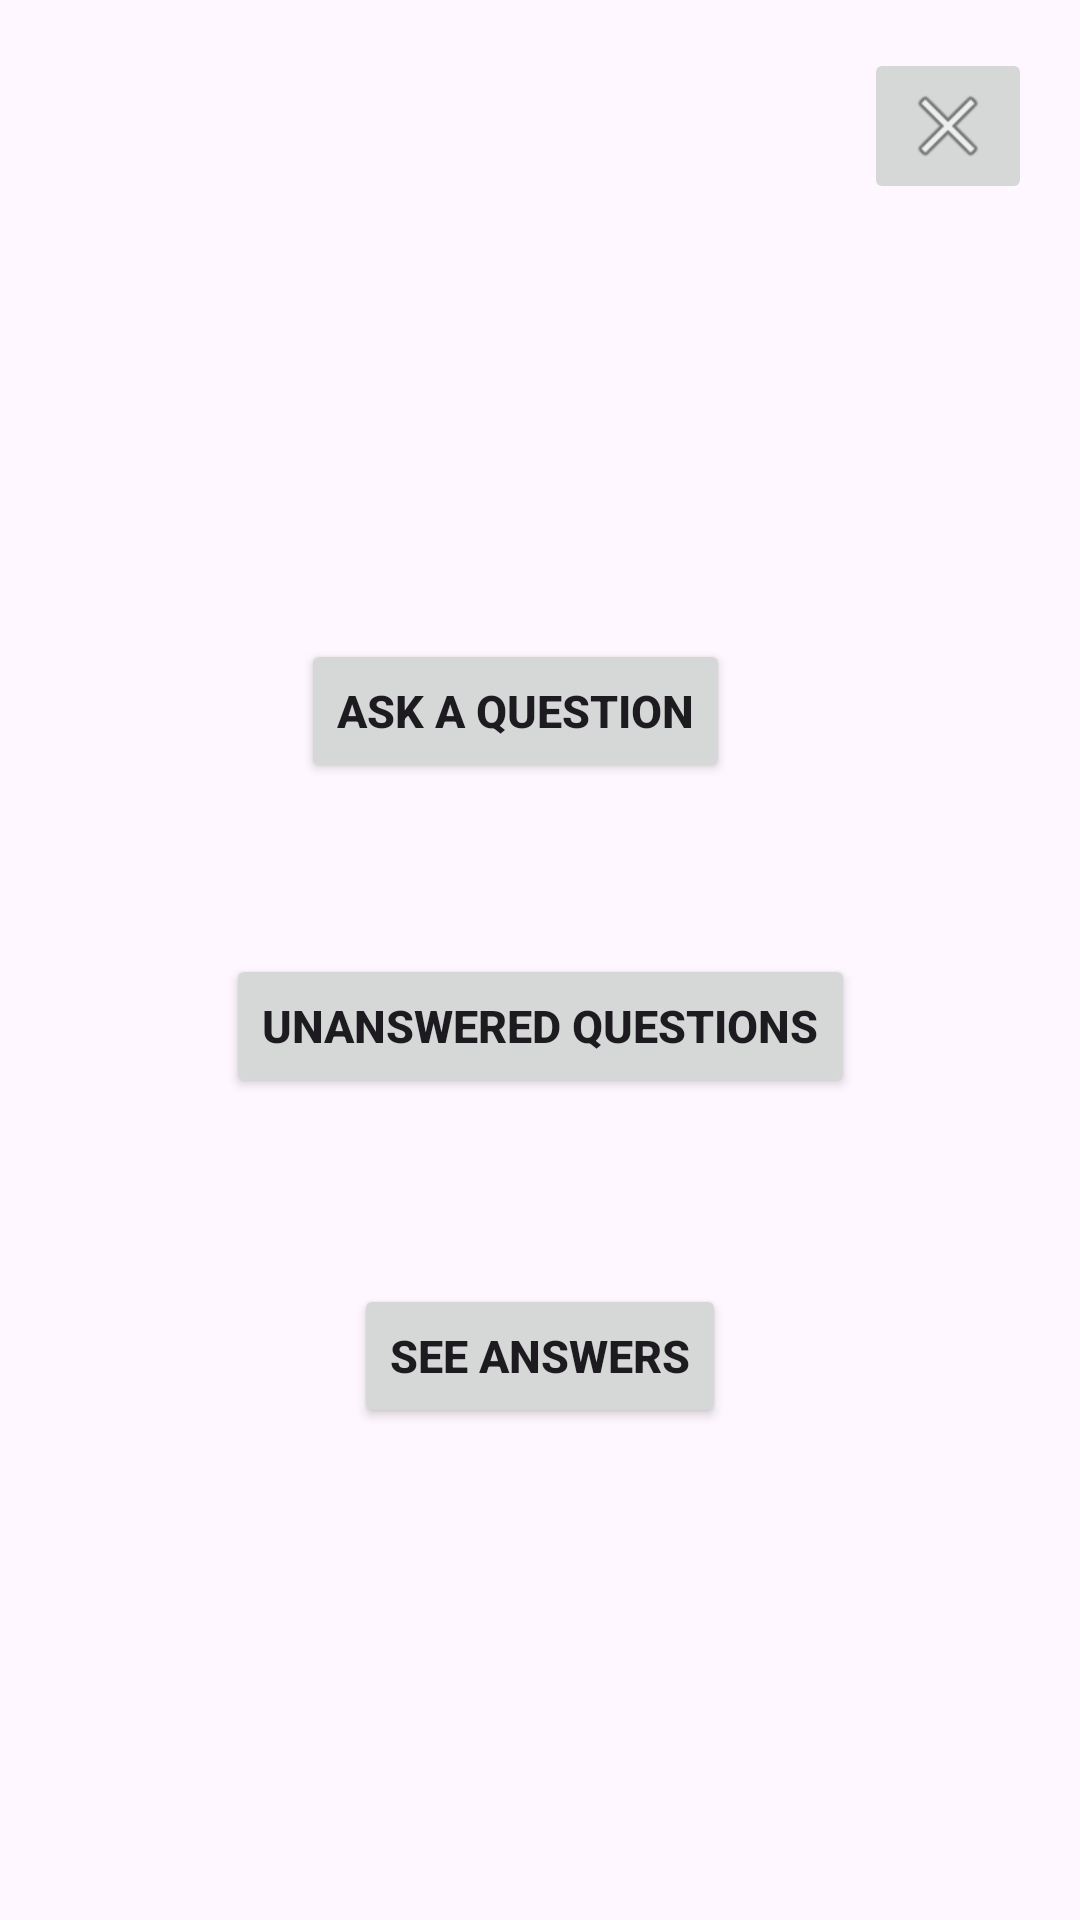

Icons on this 1080x1920 Android screen, each with the point to tap as point (x, y):
close clear cancel: point (948, 126)
